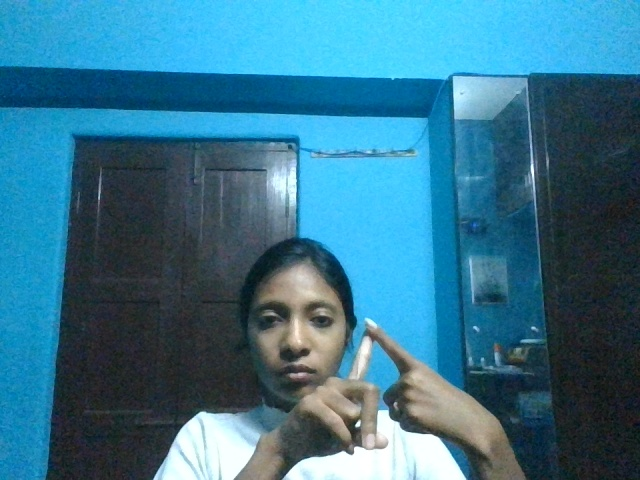E: (276, 317, 485, 477)
